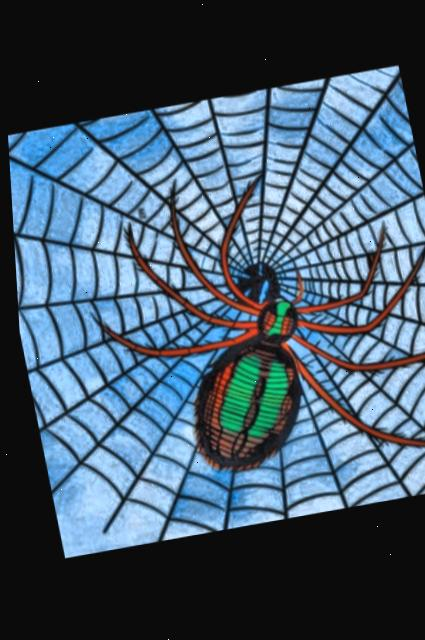La Arana: (4, 67, 425, 558)
